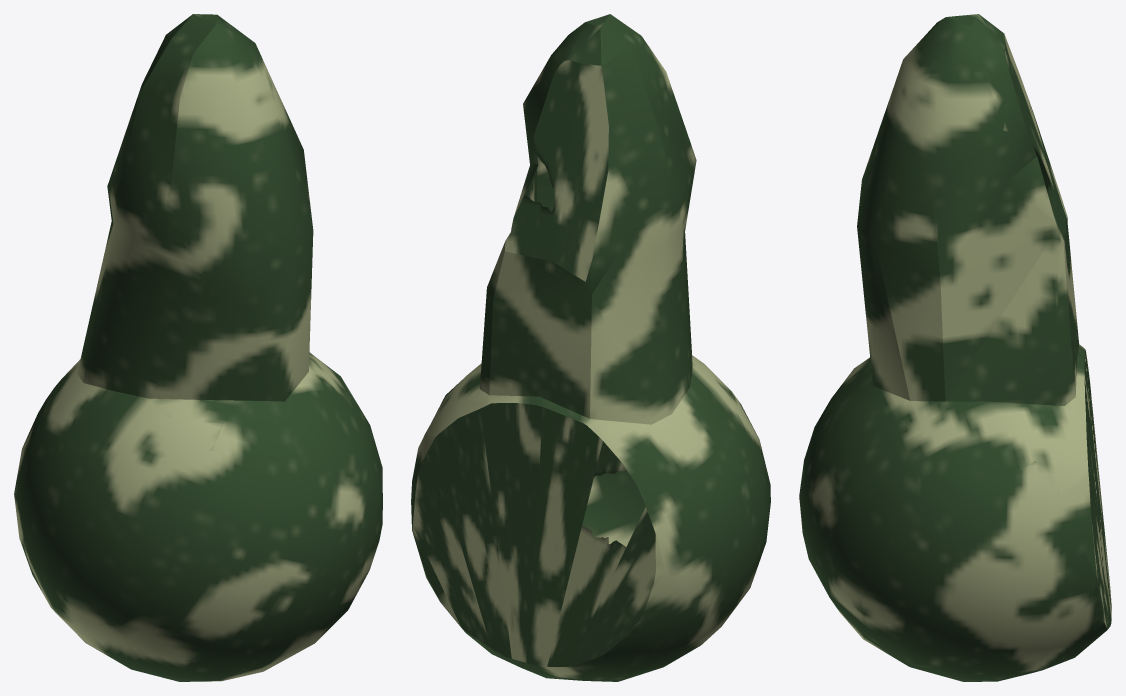
The model's file is link_leg_0_R_0.obj.
3 renders of one model, left to right at view 1: azimuth 30°, elevation 25°; view 2: azimuth 150°, elevation 25°; view 3: azimuth 270°, elevation 25°, orthographic. The views are drawn at different scales.
Parts seen in each view (by area): view 1: link_leg_0_R_0; view 2: link_leg_0_R_0; view 3: link_leg_0_R_0.
Part boxes in pixels (x1,y1,x2,y2): link_leg_0_R_0: (14,14,382,681); link_leg_0_R_0: (411,14,770,681); link_leg_0_R_0: (799,14,1111,681).
Bounding box in the file's own units: 7.33 × 14.41 × 6.31.
